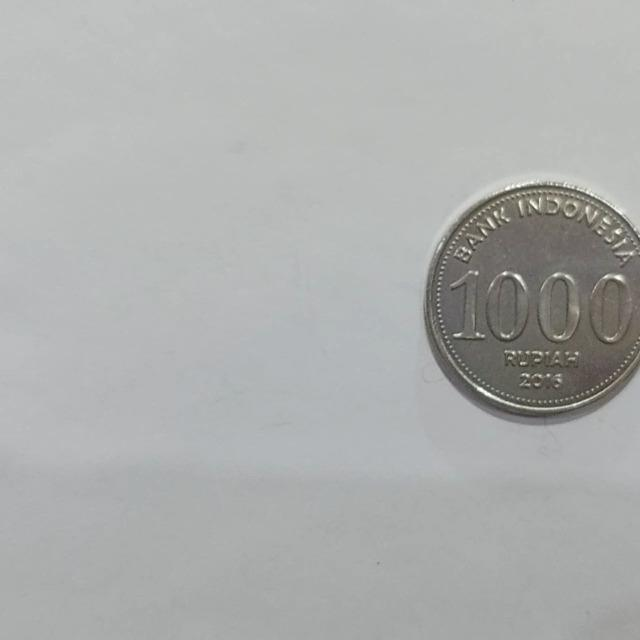Rp100: (422, 177, 640, 423)
